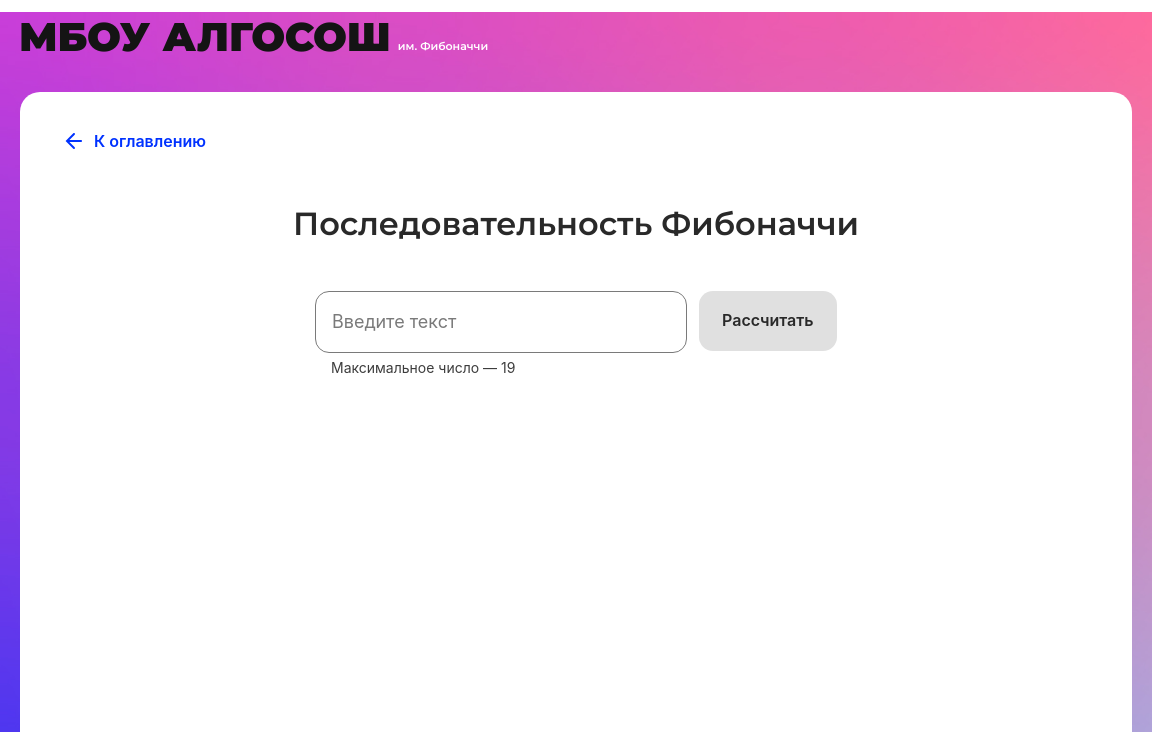
корректная работа кнопки на странице /recursion › должна становиться снова заблокированной при удалении данных
Type "10" into the number field with placeholder "Введите текст". click: (501,322)
box: [315, 291, 687, 353]
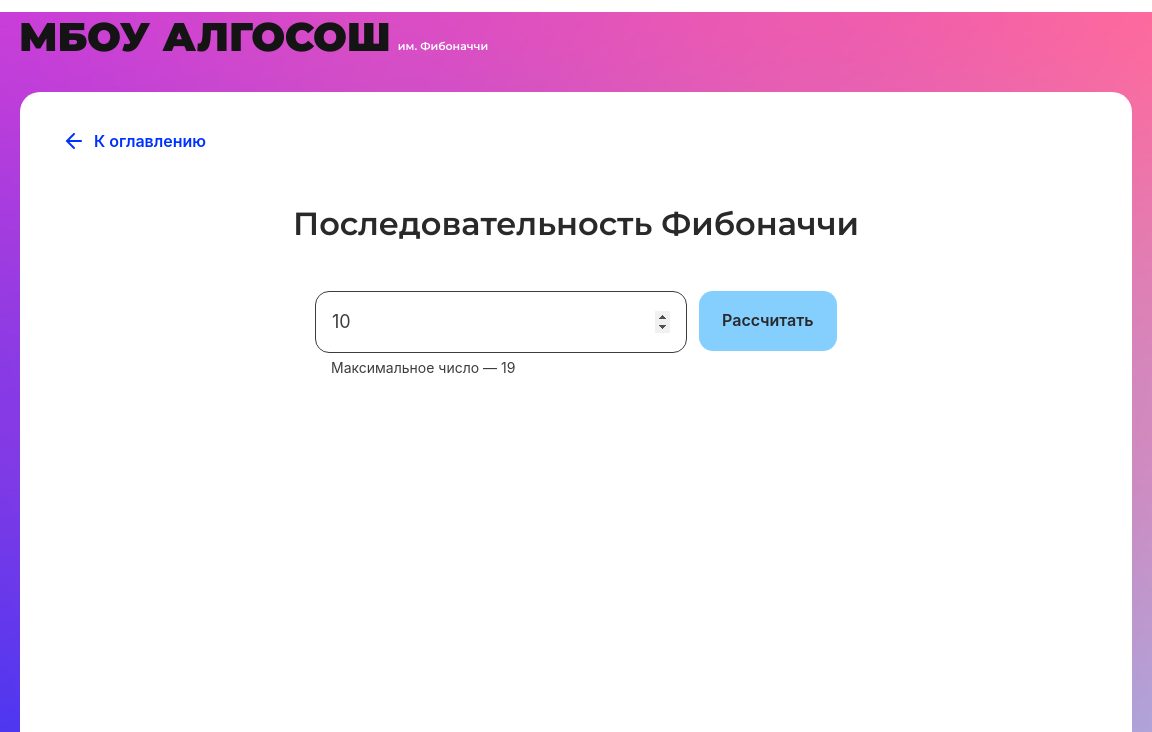
Expected: the submit button is enabled
Clear the number field. click: (501,322)
box: [315, 291, 687, 353]
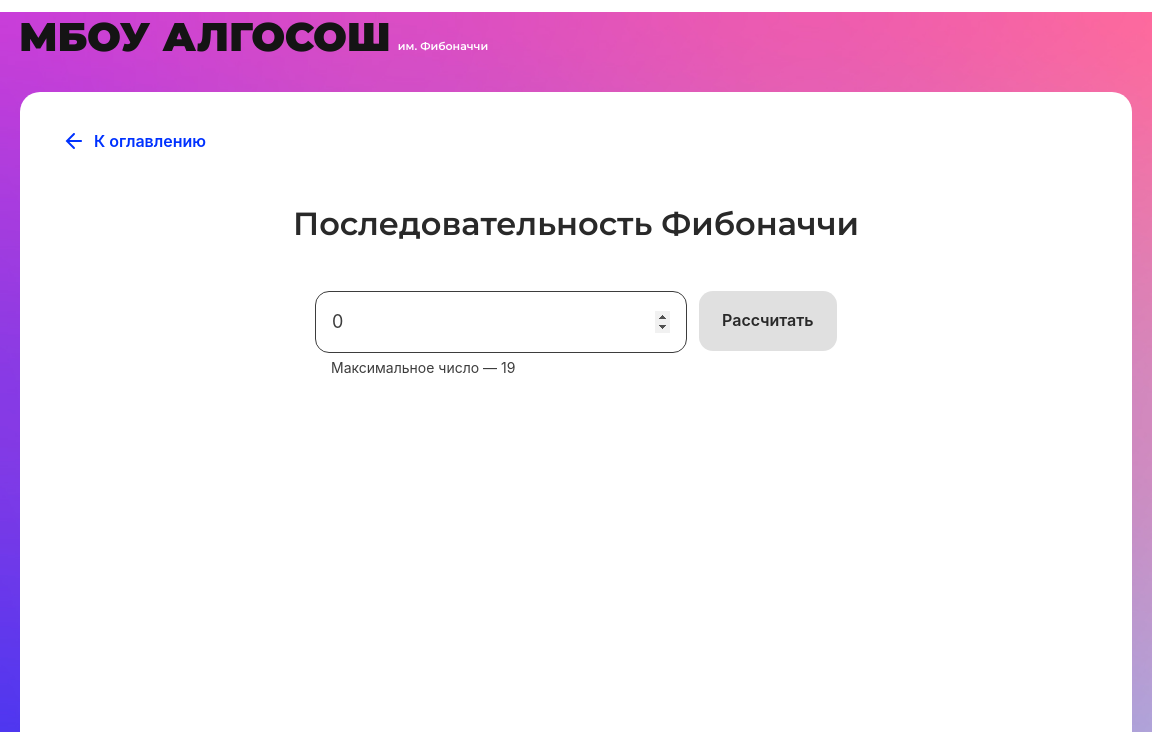
Now the submit button is disabled, box [699, 291, 837, 351]
